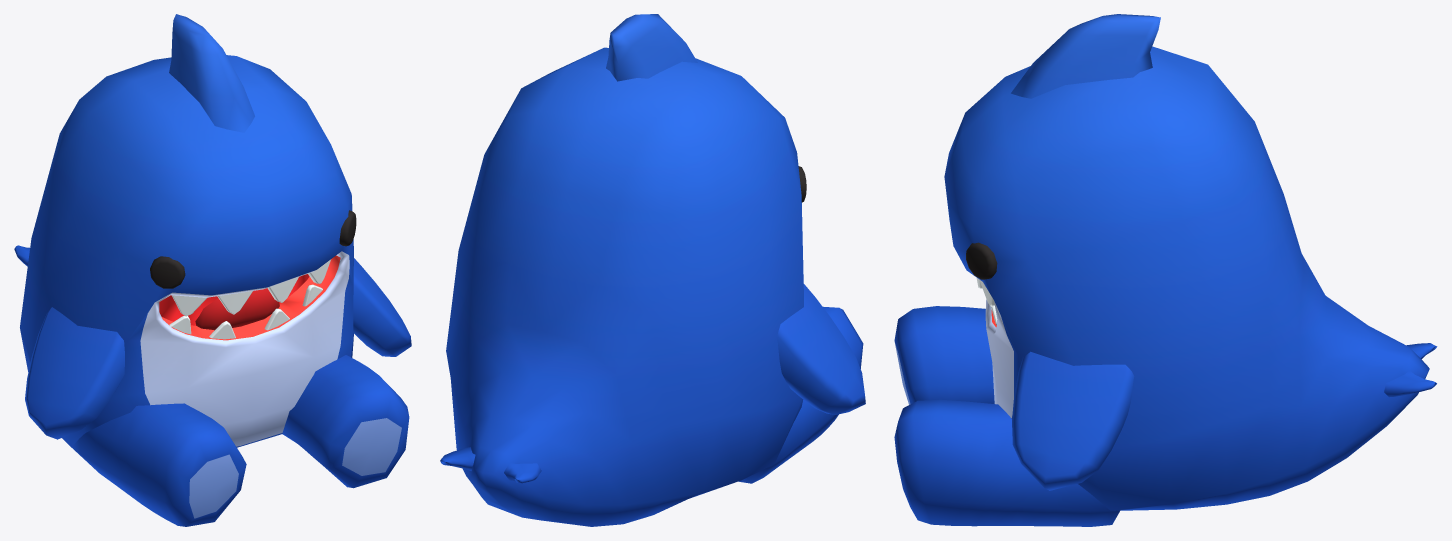
File: Shark_01.glb
3 renders of one model, left to right at view 1: azimuth 30°, elevation 25°; view 2: azimuth 150°, elevation 25°; view 3: azimuth 270°, elevation 25°, orthographic. The views are drawn at different scales.
Visible parts, largest first — view 1: Shark_01; view 2: Shark_01; view 3: Shark_01.
Part boxes in pixels (<box>): Shark_01: <box>14,14,411,526</box>; Shark_01: <box>440,14,865,526</box>; Shark_01: <box>894,14,1437,526</box>.
Bounding box in the file's own units: 0.4482 × 0.484 × 0.5171.
2 materials, 2 textured.
